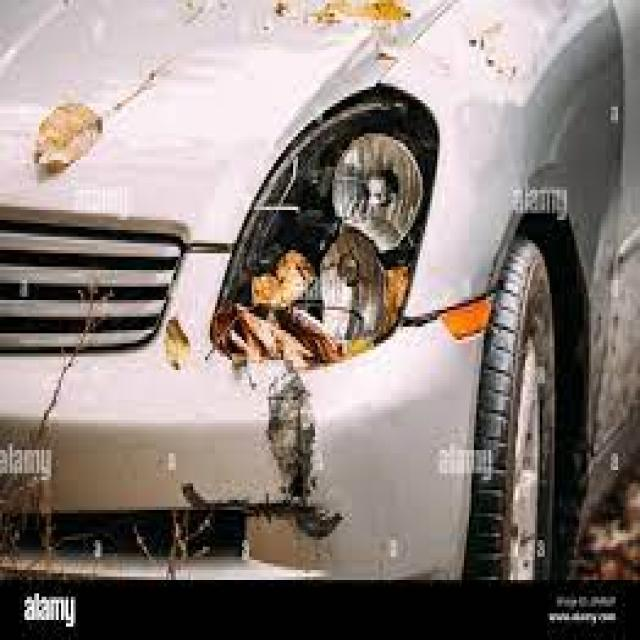damaged-head-light: (213, 80, 441, 370)
